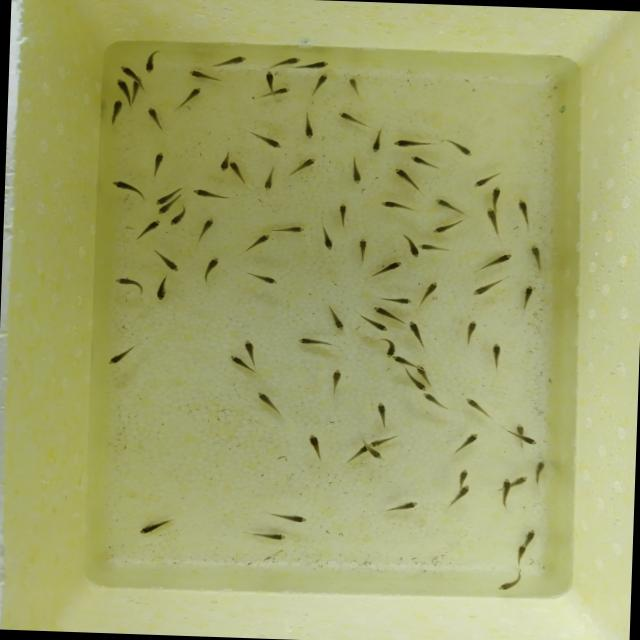fingerling: (105, 340, 141, 368), (136, 513, 176, 537), (430, 215, 469, 239), (471, 275, 510, 298), (152, 247, 185, 274), (247, 128, 284, 152), (369, 257, 405, 281), (106, 178, 148, 198), (391, 166, 422, 192), (376, 196, 418, 215), (286, 156, 322, 178), (462, 394, 493, 419), (442, 136, 477, 158), (430, 197, 470, 216), (134, 215, 162, 242), (404, 320, 428, 351), (334, 109, 372, 128), (478, 250, 514, 270), (110, 275, 146, 295), (494, 572, 526, 594), (255, 390, 282, 416), (265, 509, 308, 525), (452, 431, 480, 455), (324, 303, 347, 332), (384, 497, 421, 515), (448, 483, 474, 508), (306, 72, 331, 98), (144, 104, 168, 131), (420, 391, 452, 411), (244, 530, 289, 544), (194, 215, 217, 242), (114, 60, 145, 80), (316, 222, 338, 250), (403, 154, 447, 168), (186, 68, 224, 84), (466, 169, 496, 189), (211, 54, 248, 70), (346, 153, 364, 185), (368, 432, 404, 448), (245, 270, 281, 286), (353, 234, 371, 266), (226, 158, 249, 183), (246, 230, 272, 252), (153, 273, 172, 303), (202, 252, 222, 280), (300, 109, 316, 144), (149, 150, 168, 179), (176, 86, 201, 108), (368, 304, 402, 320), (487, 340, 504, 372), (420, 278, 440, 305), (398, 236, 420, 260), (342, 444, 367, 465), (417, 240, 452, 255), (306, 432, 324, 461), (483, 207, 502, 234), (373, 337, 396, 359), (390, 136, 432, 148), (260, 164, 278, 192), (192, 183, 228, 197), (369, 125, 386, 154), (527, 243, 544, 272), (295, 336, 336, 348), (270, 222, 307, 235), (374, 400, 390, 430), (328, 366, 344, 396), (499, 477, 514, 509), (520, 282, 536, 312), (108, 96, 124, 126), (142, 50, 160, 76), (114, 75, 134, 98), (365, 319, 392, 336), (532, 456, 546, 488), (302, 58, 334, 72), (516, 198, 532, 226), (168, 206, 190, 226), (508, 544, 528, 566), (377, 292, 412, 304), (346, 74, 362, 100), (335, 200, 351, 226), (216, 147, 232, 172), (242, 337, 258, 362), (465, 319, 478, 346), (454, 466, 471, 485), (264, 70, 276, 96), (366, 447, 388, 461), (413, 362, 432, 378), (521, 526, 536, 546), (279, 55, 301, 67), (274, 84, 292, 97), (227, 354, 246, 366), (393, 354, 412, 366), (490, 186, 502, 205), (514, 472, 528, 488), (522, 432, 538, 446), (408, 381, 428, 392), (155, 192, 167, 206), (156, 205, 170, 216), (515, 422, 525, 437)
